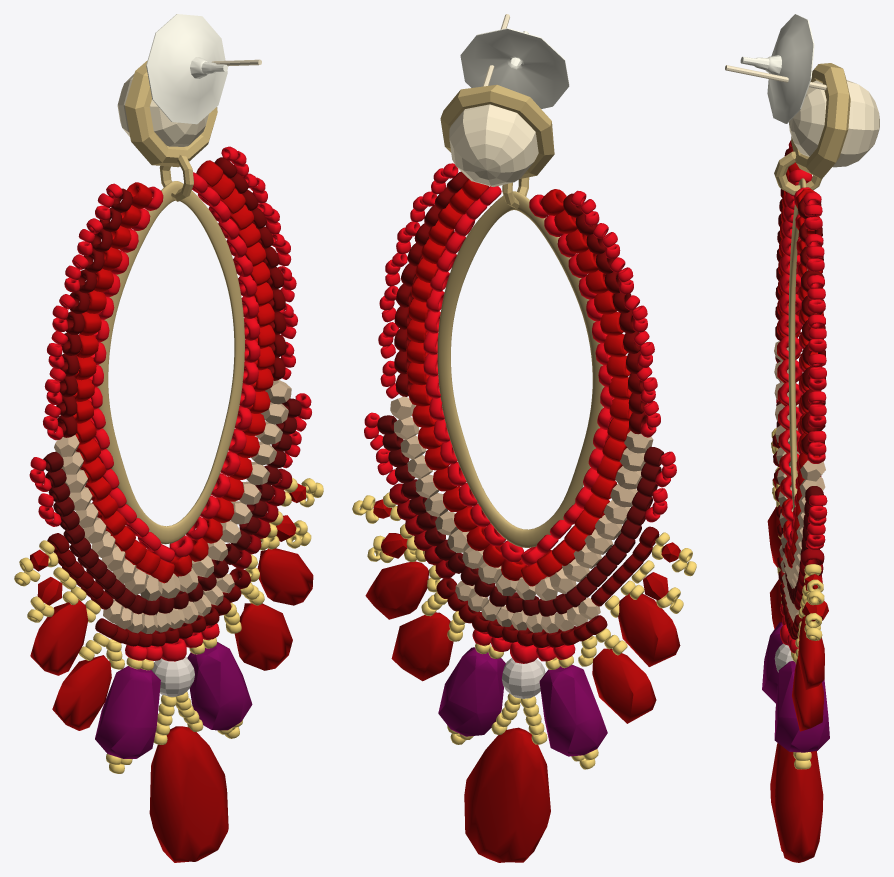
Rendered from wedn1.fbx.
3 views of the same model, side by side, from view 1: azimuth 30°, elevation 25°; view 2: azimuth 150°, elevation 25°; view 3: azimuth 270°, elevation 25° (orthographic).
Visible parts, largest first — view 1: curve46_phong11_0, curve46_phong3_0, curve46_phong1_0, curve46_phong15_0, curve46_phong5_0, curve46_phong4_0, curve46_phong9_0, curve46_phong7_0, curve46_phong17_0, curve46_phong16_0, curve46_phong10_0, curve46_phongE2_0 (+1 smaller); view 2: curve46_phong11_0, curve46_phong3_0, curve46_phong1_0, curve46_phong15_0, curve46_phong5_0, curve46_phong4_0, curve46_phong9_0, curve46_phong17_0, curve46_phong7_0, curve46_phong10_0, curve46_phong16_0, curve46_phongE2_0 (+1 smaller); view 3: curve46_phong3_0, curve46_phong11_0, curve46_phong15_0, curve46_phong10_0, curve46_phong16_0, curve46_phong9_0, curve46_phong4_0, curve46_phong1_0, curve46_phong5_0, curve46_phong7_0, curve46_phong17_0, curve46_phongE2_0 (+1 smaller).
Boxes of the visible parts, x1,y1,x2,y2 form: curve46_phong11_0: [30, 483, 313, 862]; curve46_phong3_0: [29, 146, 311, 661]; curve46_phong1_0: [73, 160, 275, 583]; curve46_phong15_0: [97, 60, 244, 544]; curve46_phong5_0: [54, 380, 291, 633]; curve46_phong4_0: [47, 157, 286, 647]; curve46_phong9_0: [95, 642, 252, 758]; curve46_phong7_0: [14, 477, 323, 773]; curve46_phong17_0: [43, 398, 301, 615]; curve46_phong16_0: [146, 14, 227, 124]; curve46_phong10_0: [117, 59, 261, 146]; curve46_phongE2_0: [232, 468, 292, 569]; curve46_phong11_0: [365, 499, 680, 862]; curve46_phong3_0: [364, 163, 676, 663]; curve46_phong1_0: [406, 179, 632, 586]; curve46_phong15_0: [437, 84, 604, 547]; curve46_phong5_0: [390, 396, 653, 633]; curve46_phong4_0: [394, 171, 659, 647]; curve46_phong9_0: [438, 647, 607, 756]; curve46_phong17_0: [377, 415, 664, 616]; curve46_phong7_0: [352, 492, 696, 769]; curve46_phong10_0: [449, 14, 538, 186]; curve46_phong16_0: [460, 28, 569, 108]; curve46_phongE2_0: [389, 483, 455, 579]; curve46_phong3_0: [775, 140, 827, 653]; curve46_phong11_0: [767, 444, 828, 862]; curve46_phong15_0: [774, 63, 850, 509]; curve46_phong10_0: [725, 65, 879, 167]; curve46_phong16_0: [740, 14, 814, 123]; curve46_phong9_0: [762, 622, 829, 752]; curve46_phong4_0: [772, 147, 825, 639]; curve46_phong1_0: [777, 162, 823, 568]; curve46_phong5_0: [774, 341, 825, 622]; curve46_phong7_0: [771, 428, 824, 769]; curve46_phong17_0: [775, 356, 823, 604]; curve46_phongE2_0: [794, 548, 824, 610].
Size of the model in its own units: 29.97 by 74.45 by 12.53.
